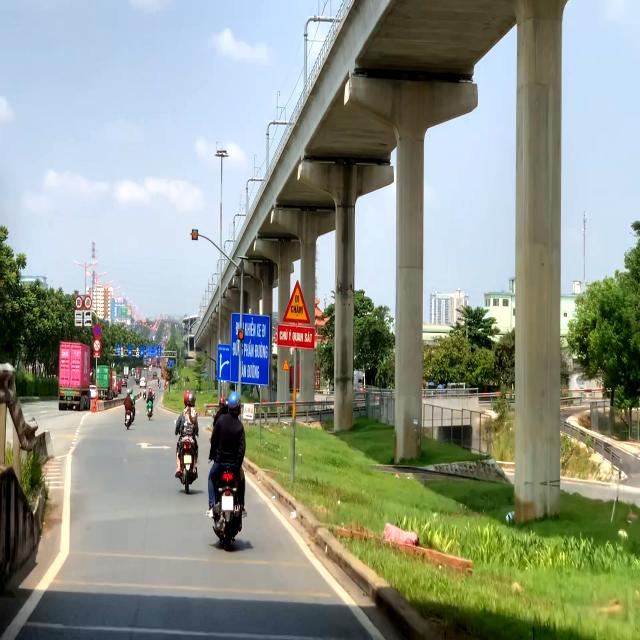P.127: (84, 296, 92, 310), (75, 296, 82, 309)
P.130: (94, 324, 101, 338)
W.245a: (282, 278, 311, 324)
